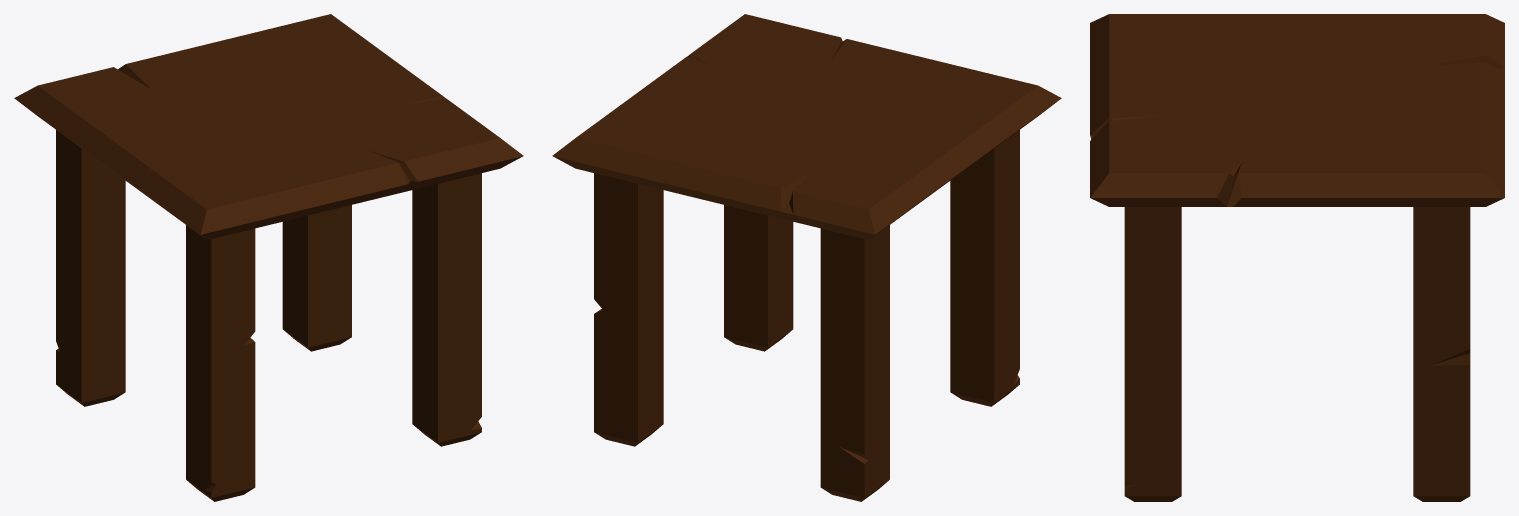
File: stool.fbx
The picture shows the model from 3 angles, left to right: view 1: azimuth 30°, elevation 25°; view 2: azimuth 150°, elevation 25°; view 3: azimuth 270°, elevation 25°; orthographic projection. The views are drawn at different scales.
Visible parts, largest first — view 1: Cube, Cube.001; view 2: Cube, Cube.001; view 3: Cube, Cube.001.
Part boxes in pixels (x1,y1,x2,y2): Cube: (14,14,523,239); Cube.001: (56,130,481,501); Cube: (552,14,1061,239); Cube.001: (594,130,1019,501); Cube: (1090,14,1504,206); Cube.001: (1124,207,1470,501).
Bounding box in the file's own units: 441 × 398 × 441.
